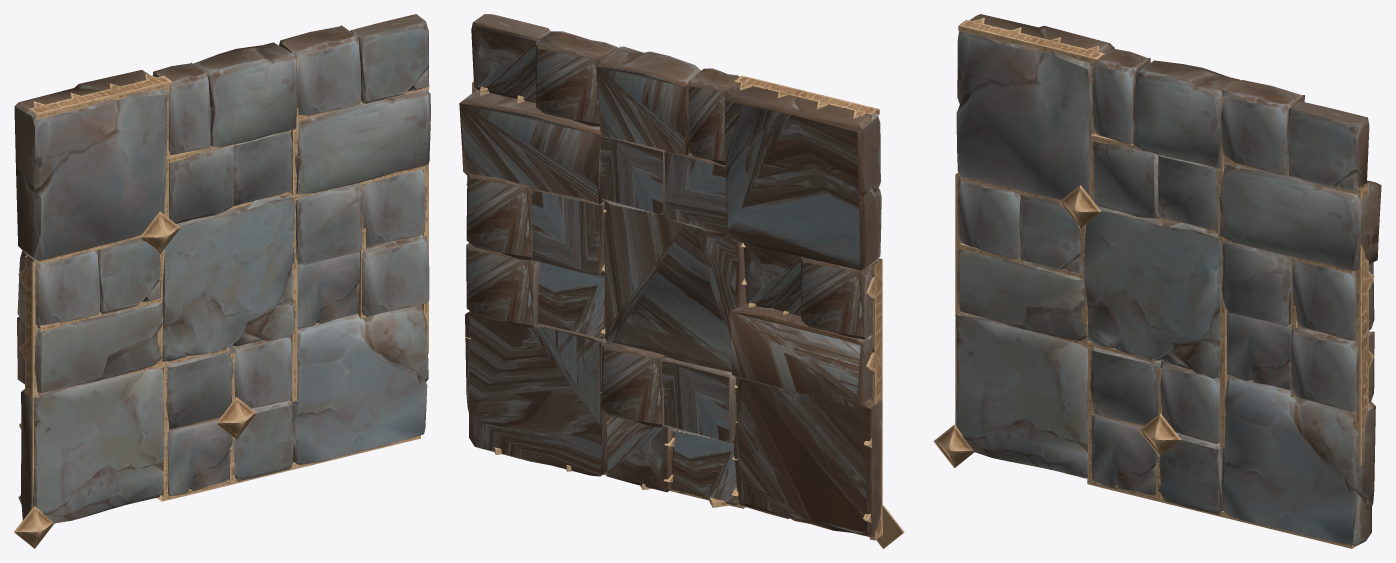
Rendered from TileFloor_Mammon_A.fbx.
3 renders of one model, left to right at view 1: azimuth 30°, elevation 25°; view 2: azimuth 150°, elevation 25°; view 3: azimuth 330°, elevation 25°, orthographic. The views are drawn at different scales.
Parts seen in each view (by area): view 1: TileFloor_Mommon_A; view 2: TileFloor_Mommon_A; view 3: TileFloor_Mommon_A.
Boxes of the visible parts, x1=… form: TileFloor_Mommon_A: x1=14, y1=14, x2=430, y2=548; TileFloor_Mommon_A: x1=459, y1=14, x2=904, y2=548; TileFloor_Mommon_A: x1=933, y1=14, x2=1381, y2=548.
Size of the model in its own units: 856 by 850 by 110.
